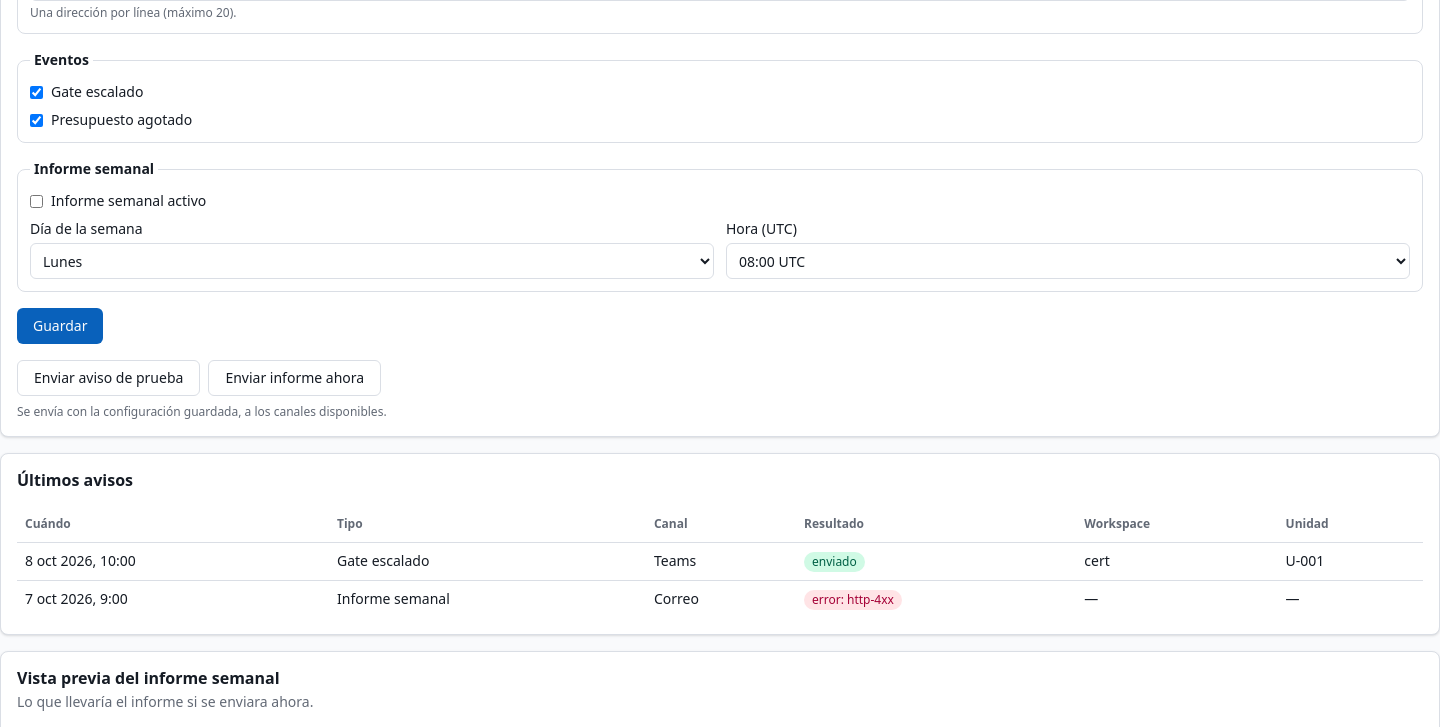
Scenario: avisos e informes › muestra el detalle de un 422 al guardar
(page scrolled)
Click the button "Guardar": (60, 326) [17,308,104,344]
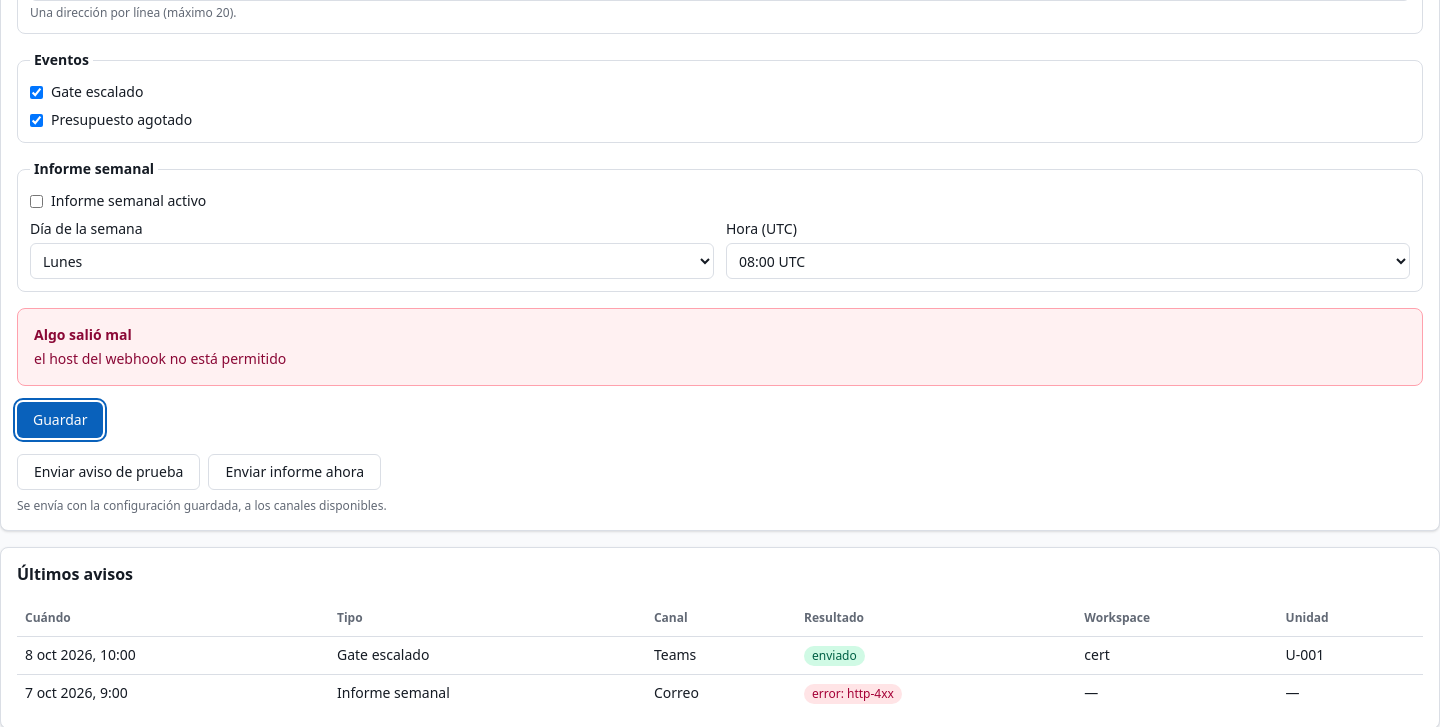
Result: the text "el host del webhook no está permitido" is shown at [34,349,286,368]
